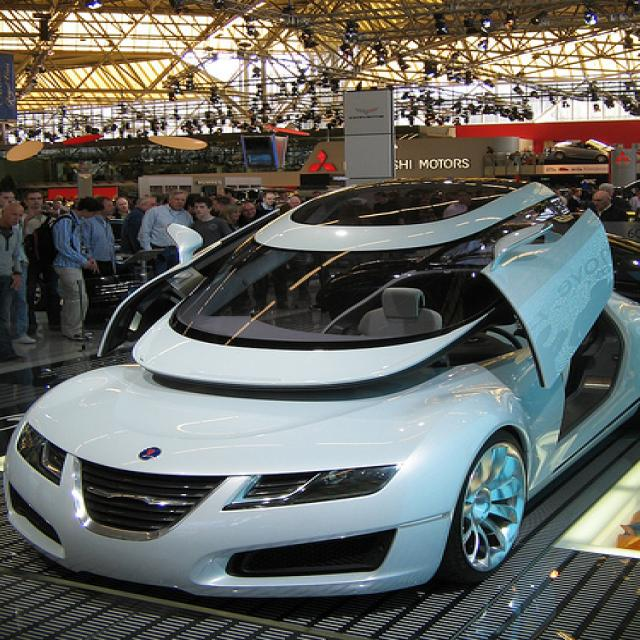Car: (0, 166, 638, 604)
